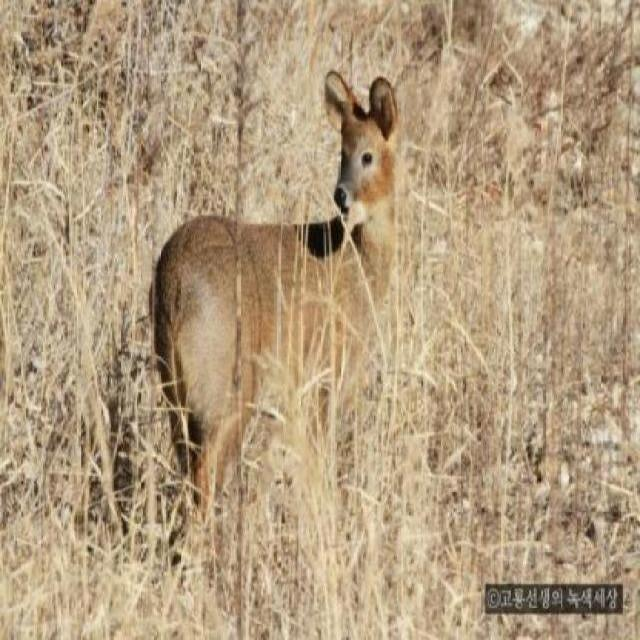deer: (127, 50, 427, 523)
